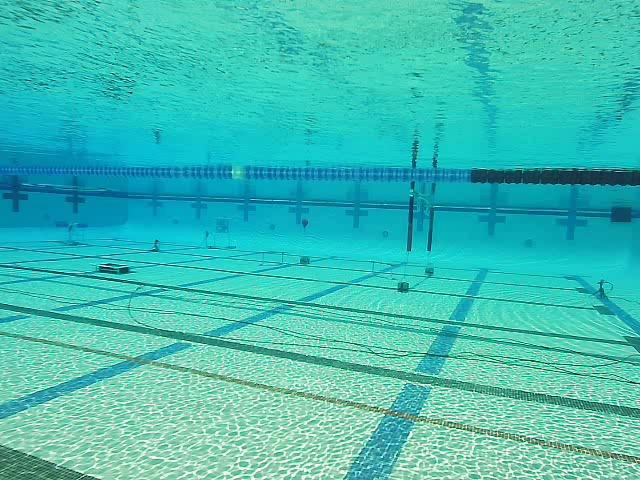dropper: (96, 262, 132, 275)
gate_leg_l: (406, 180, 416, 253)
gate_leg_r: (426, 207, 434, 250)
table: (53, 220, 89, 247)
torpedo: (213, 216, 234, 234)
